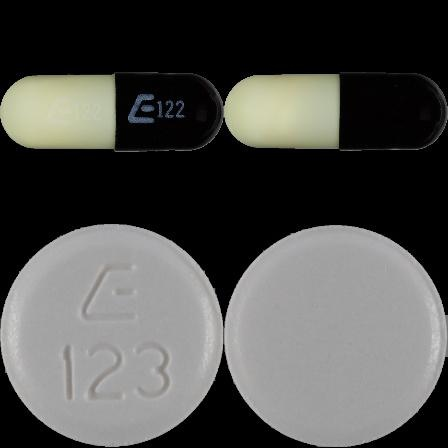0185-0122: (0, 0, 224, 224)
